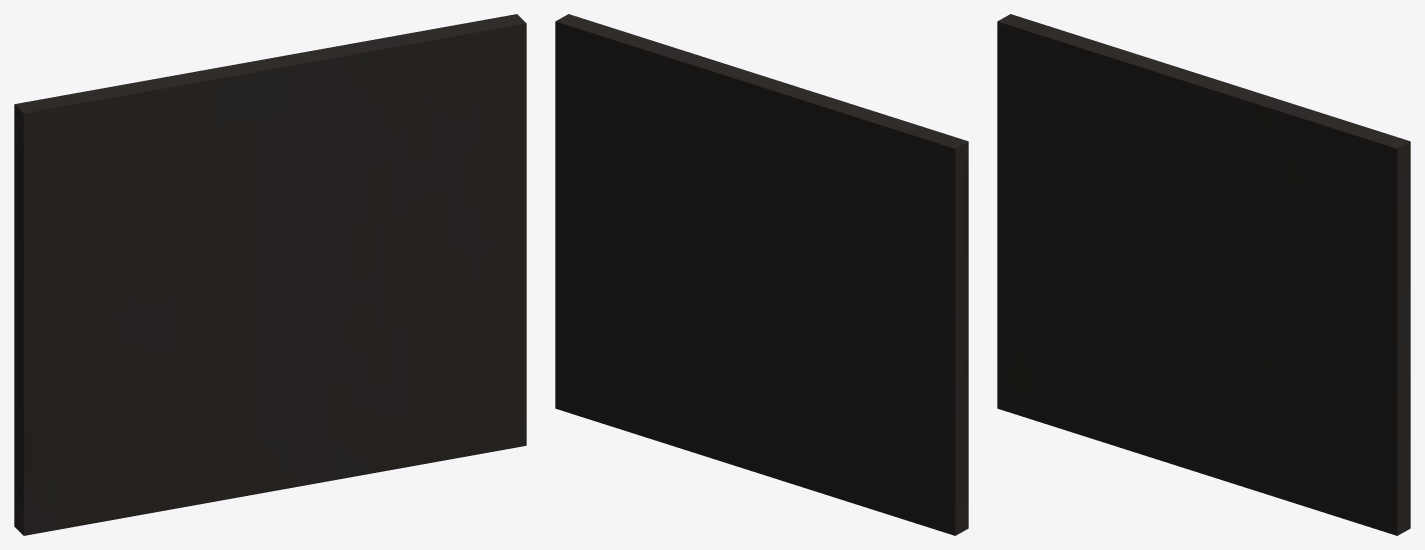
File: seat__seat_board.glb
3 views of the same model, side by side, from view 1: azimuth 30°, elevation 25°; view 2: azimuth 150°, elevation 25°; view 3: azimuth 330°, elevation 25° (orthographic). The views are drawn at different scales.
Visible parts, largest first — view 1: world; view 2: world; view 3: world.
Part boxes in pixels (bbox=[...]): world: bbox=[14, 14, 526, 535]; world: bbox=[555, 14, 968, 535]; world: bbox=[997, 14, 1410, 535].
Size of the model in its own units: 0.3393 by 0.29 by 0.0563.
Materials: 1 (1 with a texture image).
